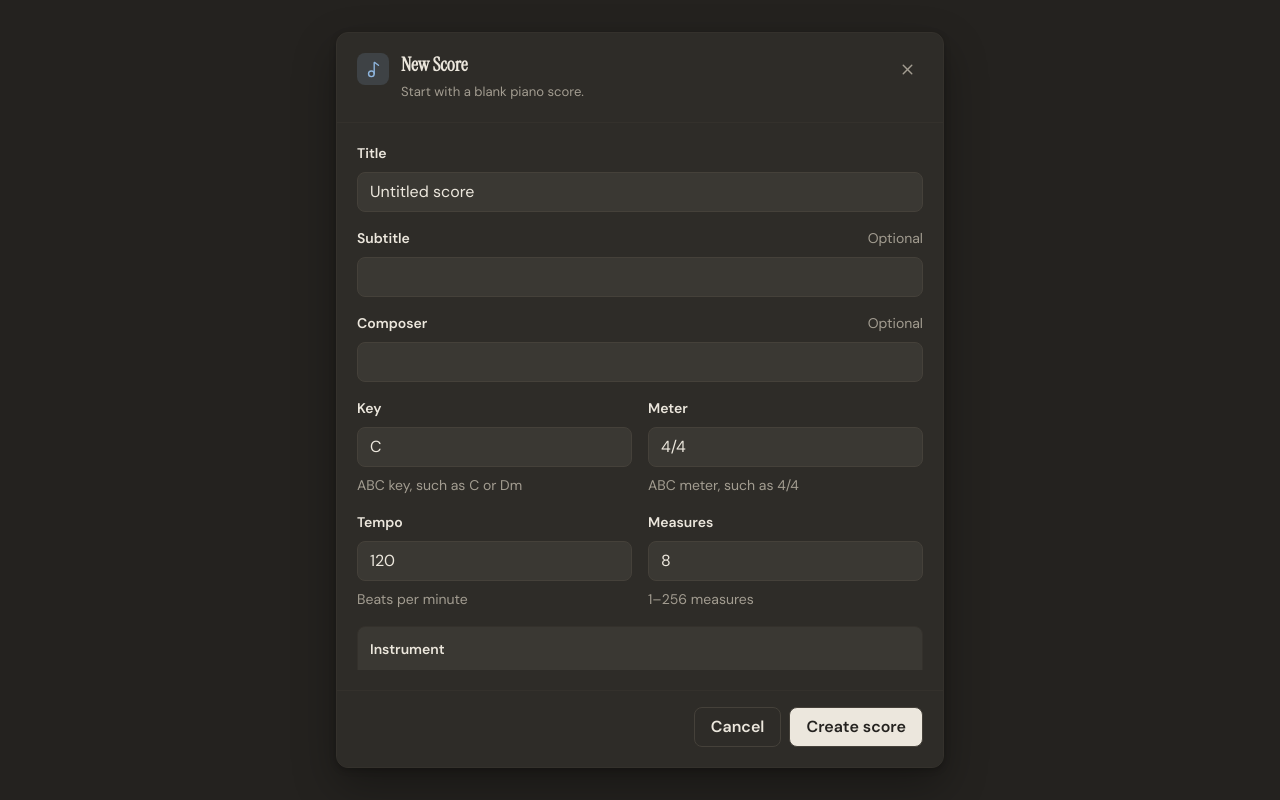
NewScoreModal › keeps the dialog open and reports errors without creating a document
Clear the field labelled "Title": (640, 192) x1=357 y1=172 x2=923 y2=212
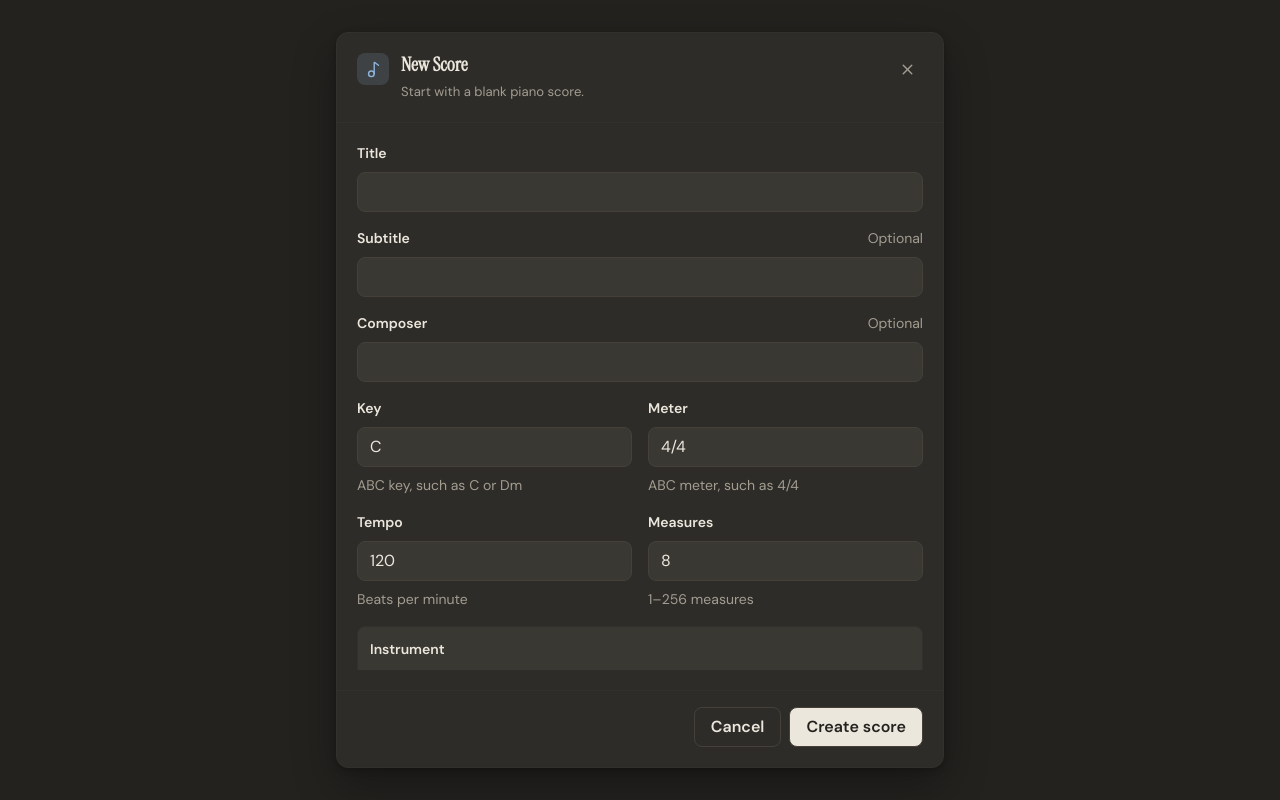
Replace the text in the number field labelled "Tempo Beats per minute" with "301": (494, 561) x1=357 y1=541 x2=632 y2=581
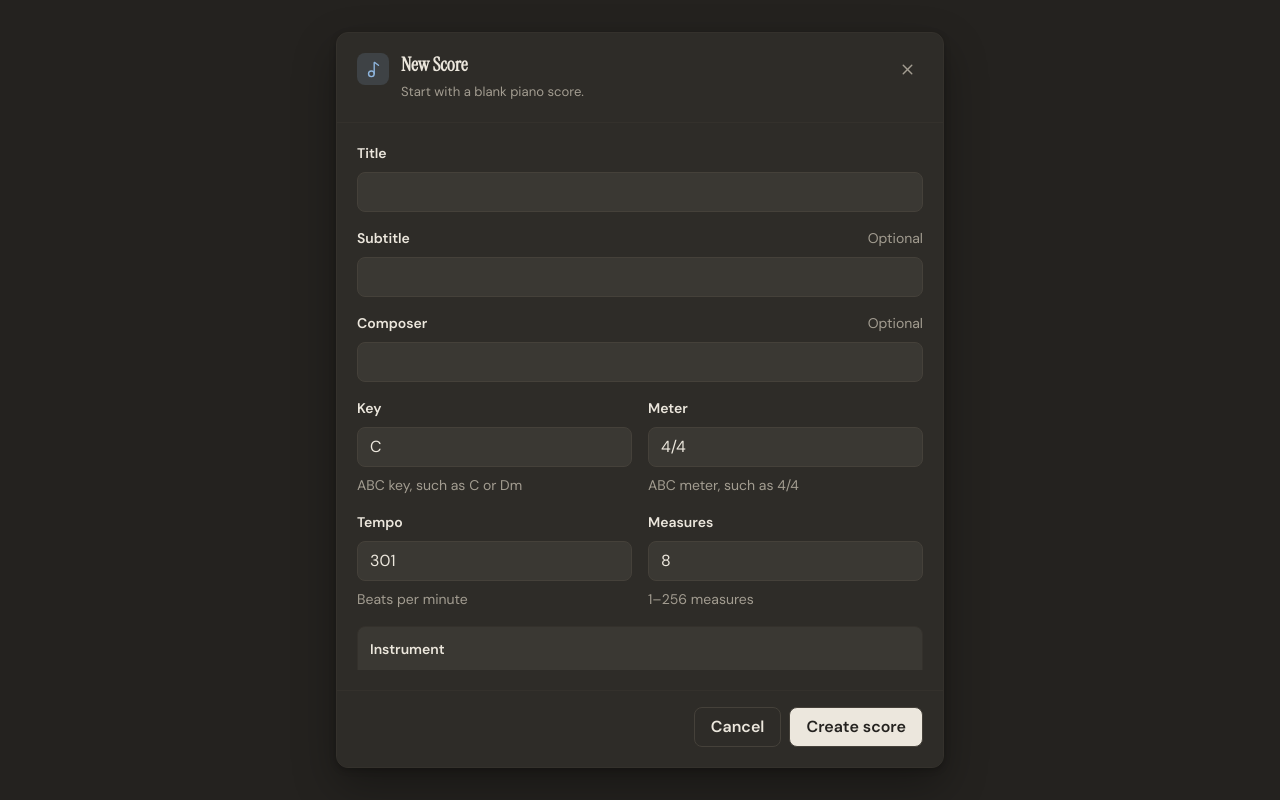
Click the button "Create score": (856, 727) x1=789 y1=707 x2=923 y2=747
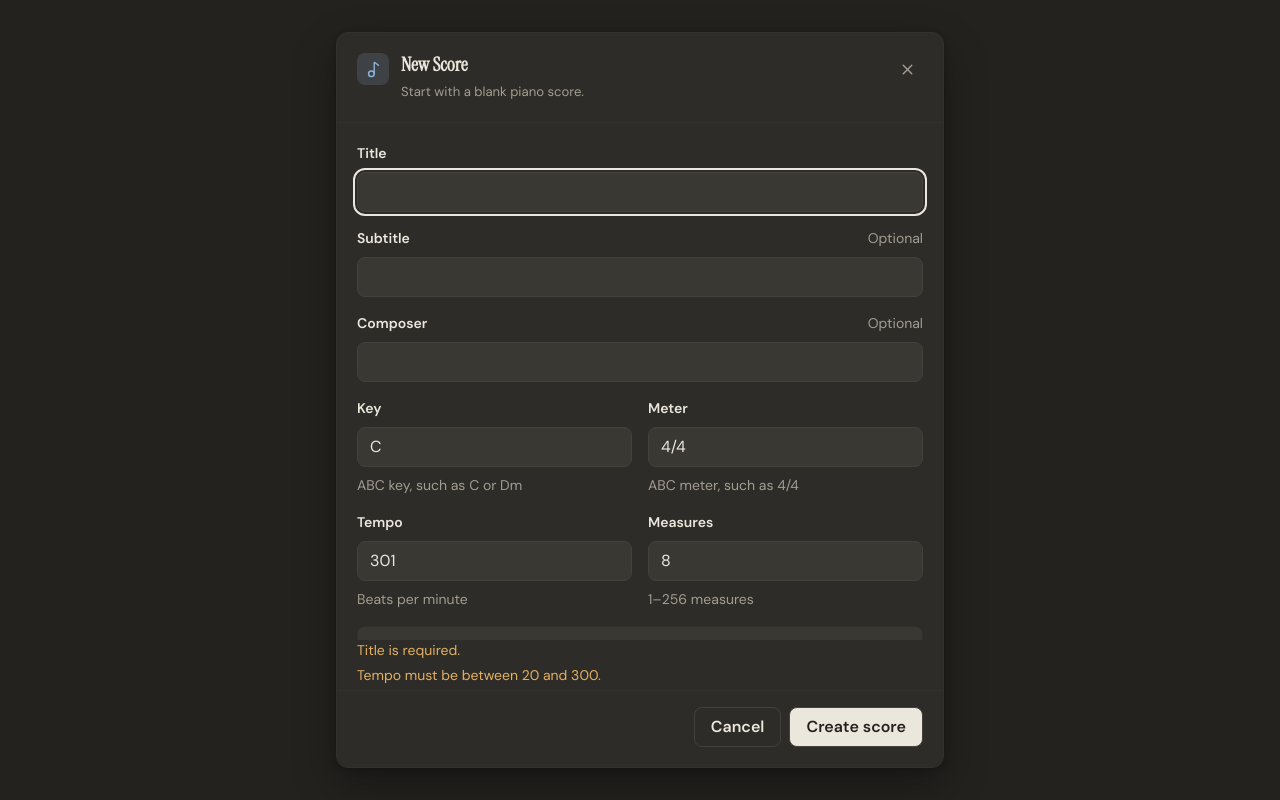
Check: the dialog "New Score" is shown, box x1=336 y1=32 x2=944 y2=768
Check: the message shows "Title is required.", box x1=357 y1=641 x2=460 y2=659
Check: the message shows "Tempo must be between 20 and 300.", box x1=357 y1=666 x2=601 y2=684
